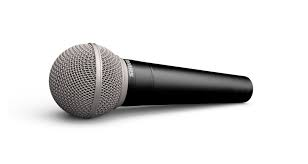microphone: (39, 40, 258, 134)
